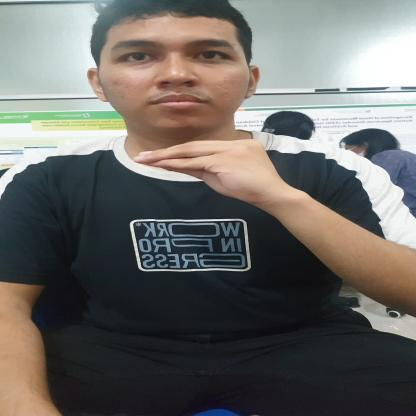Malam: (124, 133, 341, 215)
